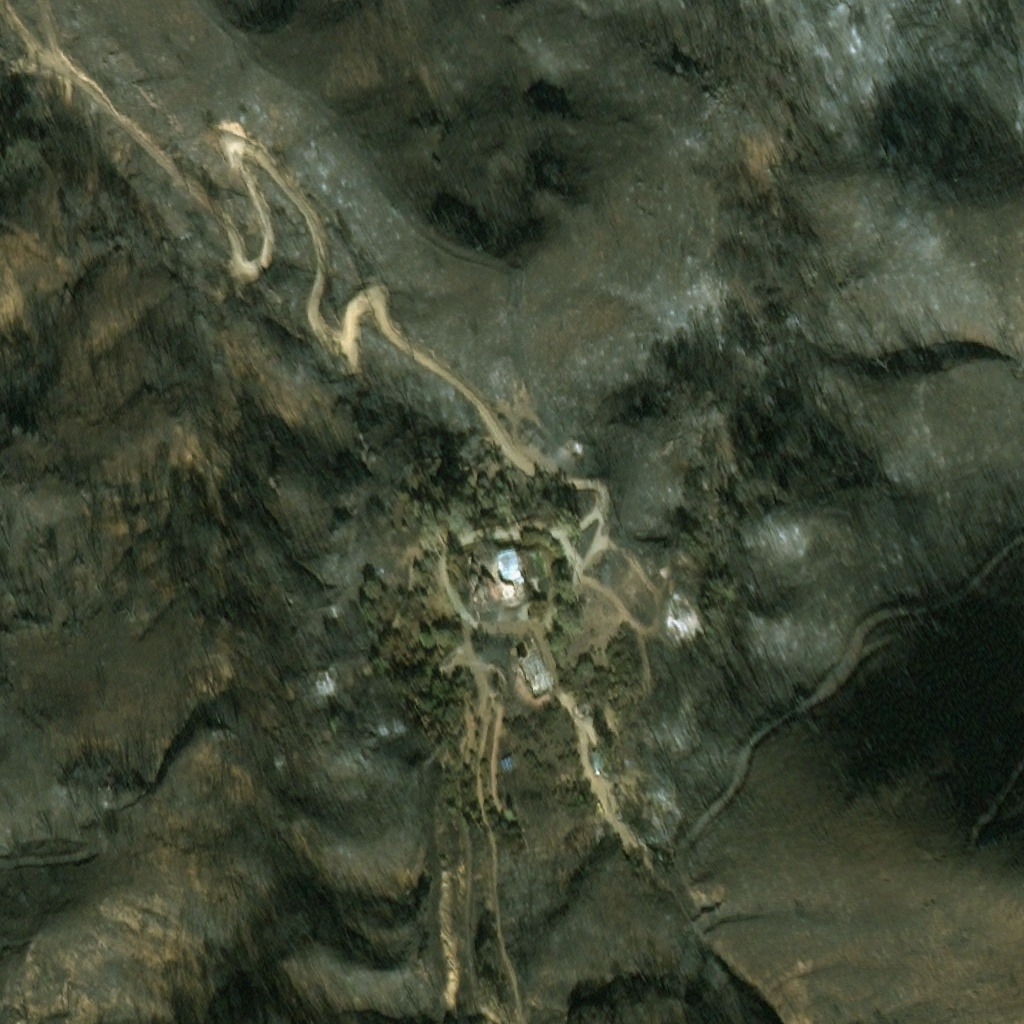2 major-damage: (496, 551, 523, 595)
3 destroyed: (516, 648, 551, 695), (592, 750, 602, 769), (500, 755, 515, 767), (577, 703, 586, 713), (644, 558, 652, 567)
